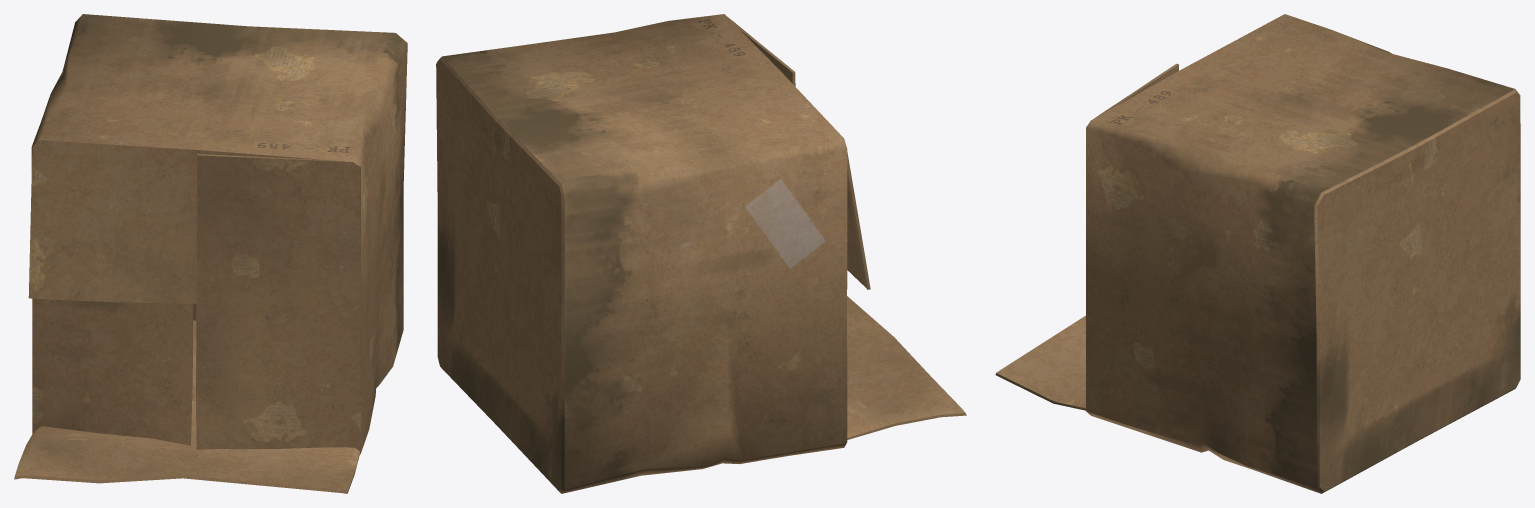
3 renders of one model, left to right at view 1: azimuth 30°, elevation 25°; view 2: azimuth 150°, elevation 25°; view 3: azimuth 270°, elevation 25°, orthographic. The views are drawn at different scales.
Visible parts, largest first — view 1: polySurface2.040; view 2: polySurface2.040; view 3: polySurface2.040.
Part boxes in pixels (box(x1,y1,x2,y2)): polySurface2.040: box(14, 14, 407, 493); polySurface2.040: box(436, 14, 966, 493); polySurface2.040: box(995, 14, 1520, 493).
Size of the model in its own units: 93.2 by 59.85 by 94.05.
1 material, 1 textured.
